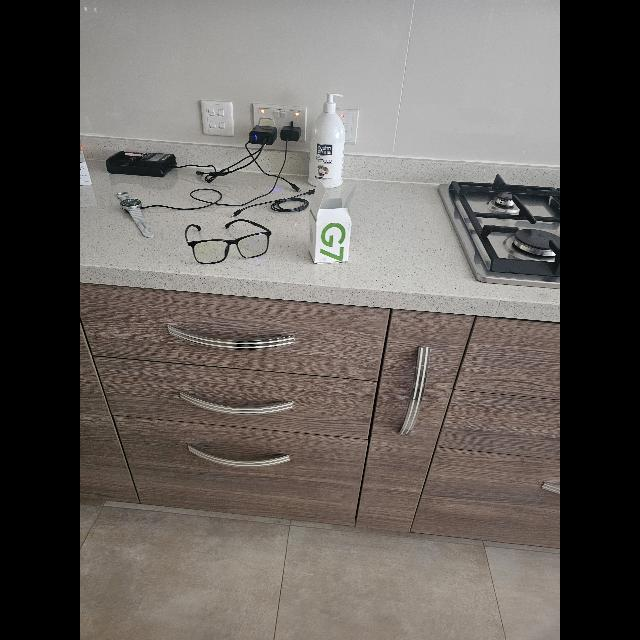glasses: (185, 218, 271, 264)
